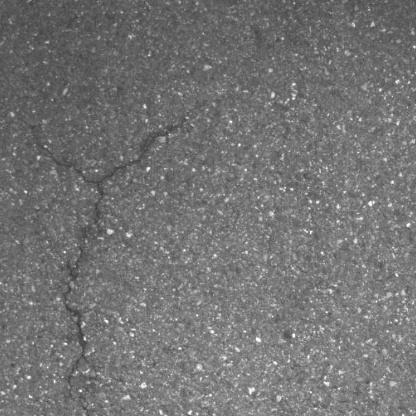Cracks: (15, 106, 196, 416)
